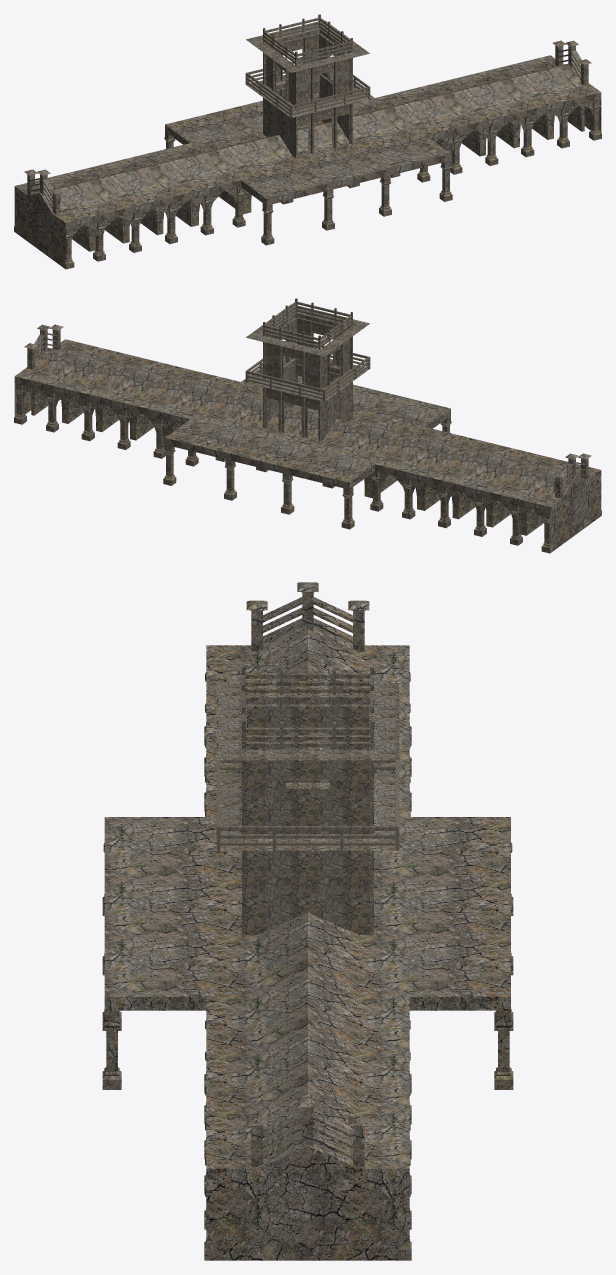
Rendered from oldRailwayStation-transformed.glb.
3 views of the same model, one above another, from view 1: azimuth 30°, elevation 25°; view 2: azimuth 150°, elevation 25°; view 3: azimuth 270°, elevation 25° (orthographic). The views are drawn at different scales.
Visible parts, largest first — view 1: polySurface4, polySurface2, polySurface7, group2_pCube28, pCube21, polySurface3; view 2: polySurface4, polySurface2, polySurface7, group2_pCube28, pCube21, polySurface3; view 3: polySurface4, polySurface2, pCube21, polySurface7, polySurface3.
Boxes of the visible parts, <box> form: polySurface4: <box>14,55,601,266</box>; polySurface2: <box>246,14,369,157</box>; polySurface7: <box>14,99,601,269</box>; group2_pCube28: <box>72,104,584,251</box>; pCube21: <box>24,40,591,214</box>; polySurface3: <box>245,59,370,117</box>; polySurface4: <box>14,339,601,552</box>; polySurface2: <box>246,298,369,441</box>; polySurface7: <box>14,383,601,553</box>; group2_pCube28: <box>31,388,543,535</box>; pCube21: <box>24,324,591,498</box>; polySurface3: <box>245,343,370,401</box>; polySurface4: <box>104,626,510,1260</box>; polySurface2: <box>216,667,399,934</box>; pCube21: <box>246,582,369,1167</box>; polySurface7: <box>102,672,513,1260</box>; polySurface3: <box>216,760,399,850</box>.
Bounding box in the file's own units: 2.23 × 0.6029 × 0.7395.
1 material, 1 textured.
